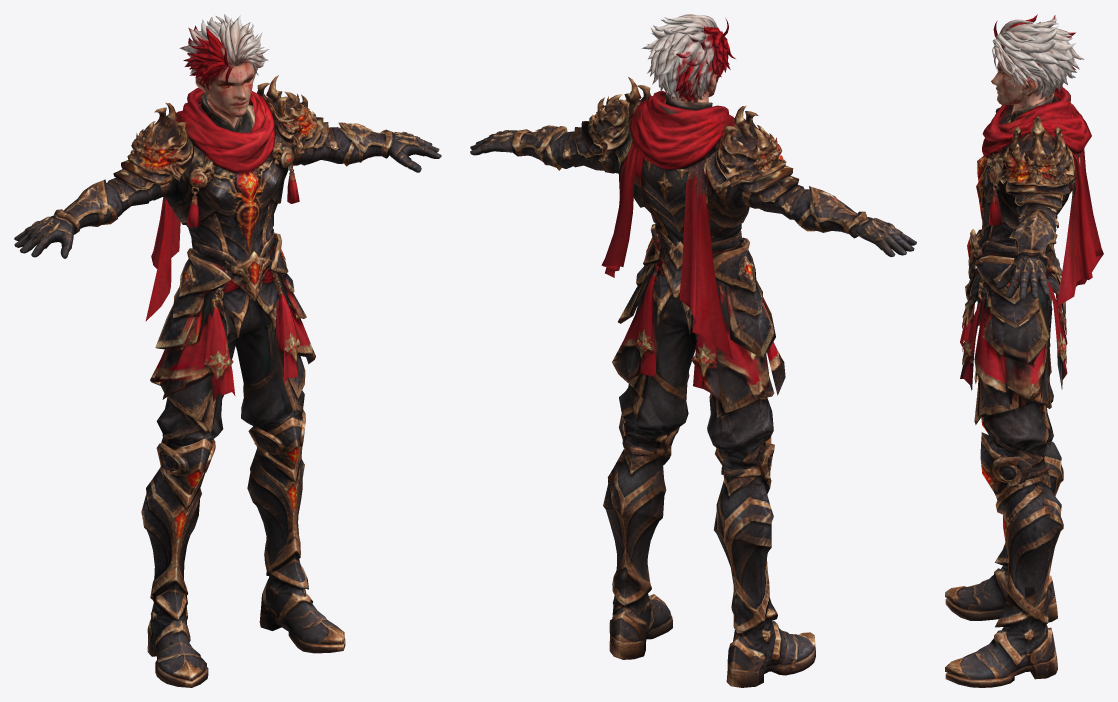
File: source-tripo.glb
3 renders of one model, left to right at view 1: azimuth 30°, elevation 25°; view 2: azimuth 150°, elevation 25°; view 3: azimuth 270°, elevation 25°, orthographic. The views are drawn at different scales.
Visible parts, largest first — view 1: tripo_node_2d5cd48d-302c-4d2a-aa34-7521054f1c8c; view 2: tripo_node_2d5cd48d-302c-4d2a-aa34-7521054f1c8c; view 3: tripo_node_2d5cd48d-302c-4d2a-aa34-7521054f1c8c.
Part boxes in pixels (x1,y1,x2,y2): tripo_node_2d5cd48d-302c-4d2a-aa34-7521054f1c8c: [14, 14, 441, 687]; tripo_node_2d5cd48d-302c-4d2a-aa34-7521054f1c8c: [470, 14, 916, 687]; tripo_node_2d5cd48d-302c-4d2a-aa34-7521054f1c8c: [945, 14, 1103, 687].
Size of the model in its own units: 0.7075 by 0.9995 by 0.23.
1 material, 1 textured.
